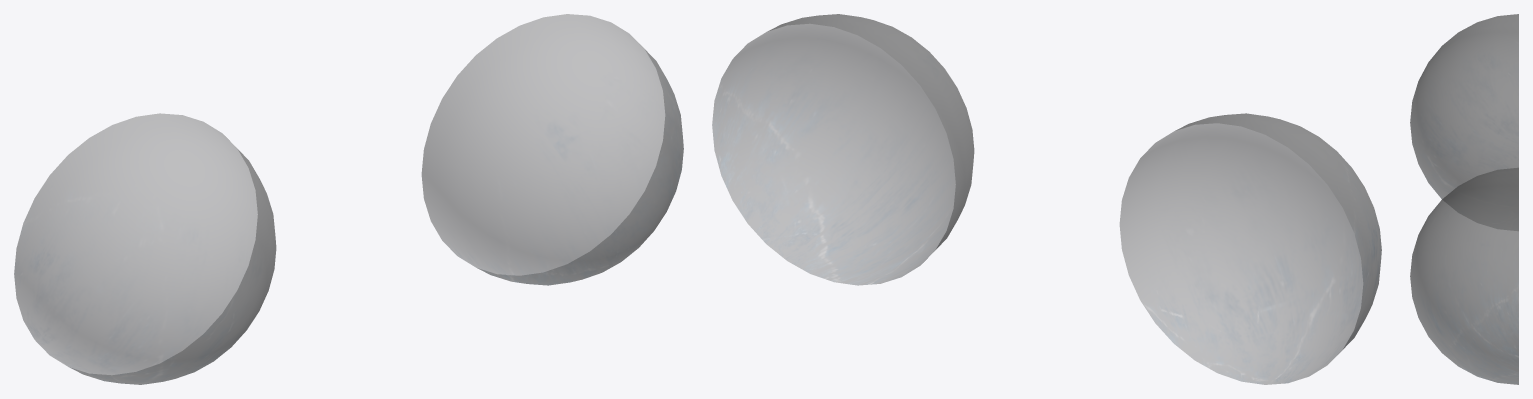
The model's file is LeverLights.glb.
3 renders of one model, left to right at view 1: azimuth 30°, elevation 25°; view 2: azimuth 150°, elevation 25°; view 3: azimuth 270°, elevation 25°, orthographic. The views are drawn at different scales.
Visible parts, largest first — view 1: LeverLights; view 2: LeverLights; view 3: LeverLights.
Boxes of the visible parts, bbox=[...] form: LeverLights: bbox=[14, 14, 683, 384]; LeverLights: bbox=[712, 14, 1381, 384]; LeverLights: bbox=[1410, 14, 1518, 384].
Bounding box in the file's own units: 0.1825 × 0.0683 × 0.0342.
1 material, 1 textured.
